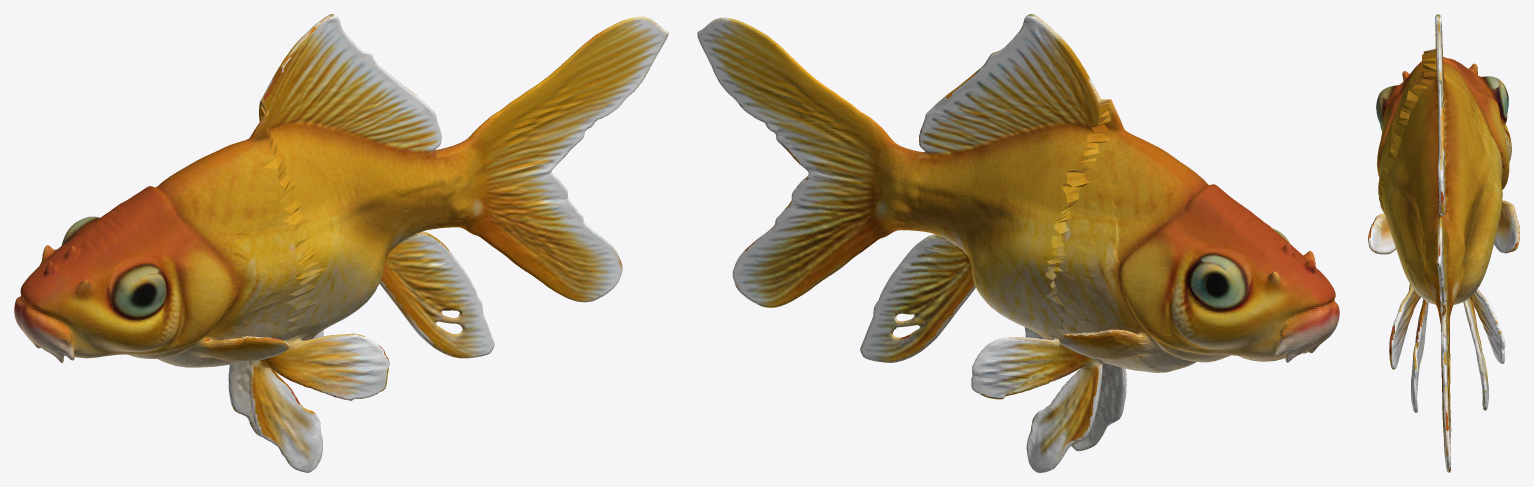
The model's file is 04_canonical_mesh.glb.
The picture shows the model from 3 angles, left to right: view 1: azimuth 30°, elevation 25°; view 2: azimuth 150°, elevation 25°; view 3: azimuth 270°, elevation 25°; orthographic projection. The views are drawn at different scales.
Parts seen in each view (by area): view 1: world; view 2: world; view 3: world.
Boxes of the visible parts, x1,y1,x2,y2 form: world: (14, 14, 668, 472); world: (697, 14, 1339, 472); world: (1368, 14, 1519, 472).
Bounding box in the file's own units: 1.65 × 1.08 × 0.3594.
Materials: 1 (1 with a texture image).
